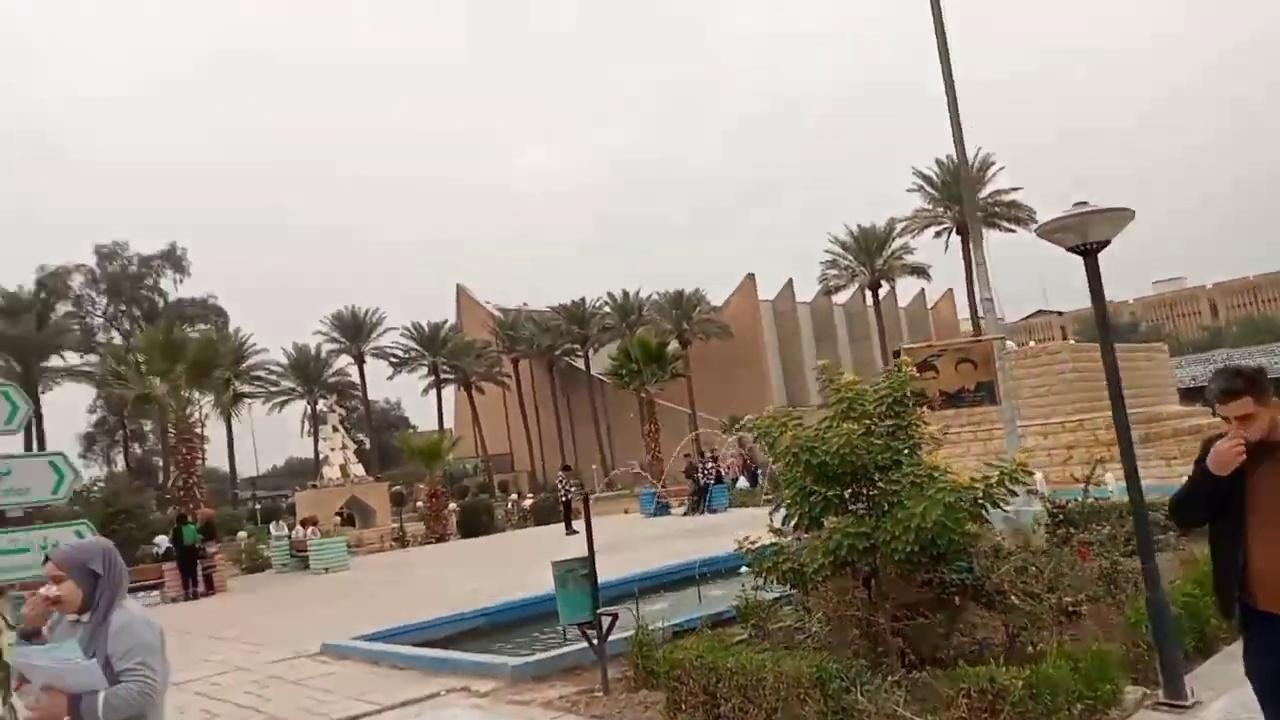fountain: (320, 541, 796, 683)
person: (1167, 362, 1279, 718), (23, 535, 170, 719), (169, 512, 202, 601), (194, 507, 219, 596), (556, 463, 580, 535), (305, 516, 321, 539)
tree: (720, 350, 1037, 671), (13, 237, 277, 532), (70, 238, 192, 473), (895, 145, 1037, 336), (122, 308, 221, 522), (0, 266, 96, 452), (816, 216, 931, 368), (647, 286, 733, 477), (191, 325, 277, 509), (312, 303, 398, 478), (600, 326, 690, 487), (547, 294, 618, 490), (424, 334, 510, 495), (261, 340, 356, 484), (518, 309, 582, 498), (487, 303, 549, 492), (597, 287, 659, 472), (385, 317, 470, 441), (74, 466, 174, 566), (391, 427, 463, 541), (164, 410, 207, 524), (358, 395, 412, 476), (599, 286, 655, 341)
